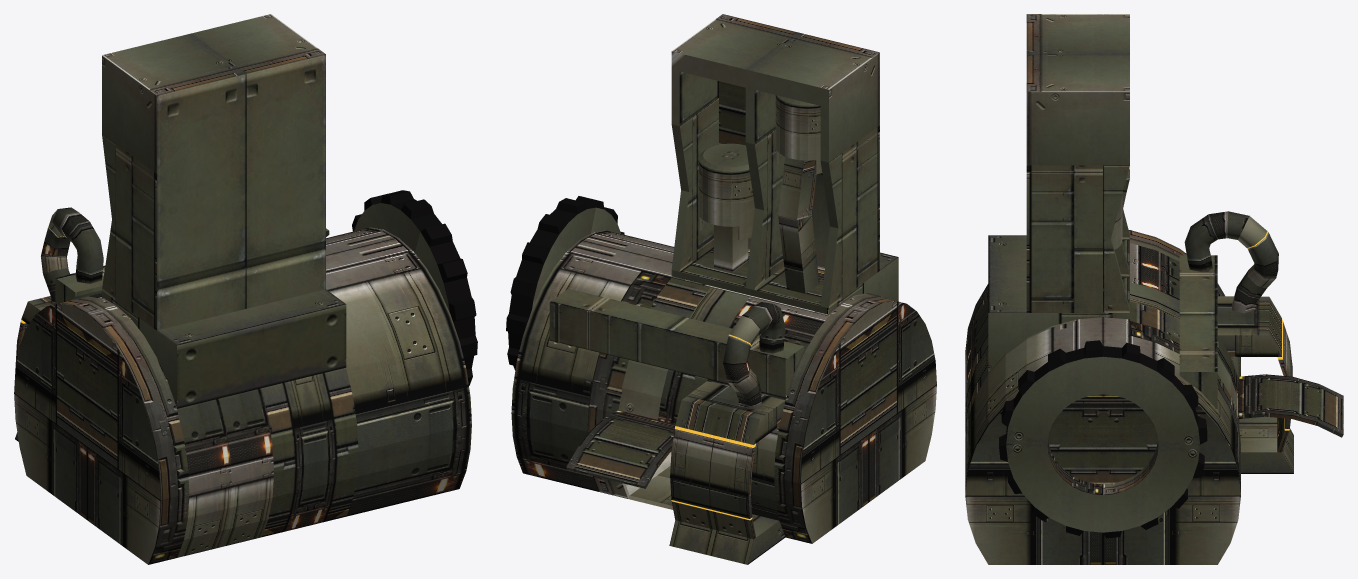
File: Shop_body.glb
3 renders of one model, left to right at view 1: azimuth 30°, elevation 25°; view 2: azimuth 150°, elevation 25°; view 3: azimuth 270°, elevation 25°, orthographic. The views are drawn at different scales.
Visible parts, largest first — view 1: Cylinder.004, Cylinder, Circle, BezierCurve.002; view 2: Cylinder.004, Cylinder, Circle.001, Circle, Cylinder.001, Circle.003, BezierCurve.002, Circle.002; view 3: Cylinder.004, Cylinder, Circle, BezierCurve.002, Cylinder.001.
Part boxes in pixels (box(x1,y1,x2,y2)): Cylinder.004: box(14, 227, 471, 564); Cylinder: box(55, 14, 346, 408); Circle: box(352, 190, 477, 385); BezierCurve.002: box(41, 207, 103, 304); Cylinder.004: box(511, 230, 936, 564); Cylinder: box(549, 14, 898, 397); Circle.001: box(775, 95, 822, 293); Circle: box(506, 196, 624, 370); Cylinder.001: box(566, 410, 675, 488); Circle.003: box(698, 143, 754, 240); BezierCurve.002: box(723, 302, 785, 409); Circle.002: box(714, 225, 748, 272); Cylinder.004: box(965, 230, 1293, 564); Cylinder: box(988, 14, 1217, 409); Circle: box(999, 340, 1207, 538); BezierCurve.002: box(1184, 211, 1278, 313); Cylinder.001: box(1238, 374, 1343, 437).
Size of what is drawn, in the model's own units: 23.35 by 29.66 by 24.16.
Materials: 3 (2 with a texture image).
